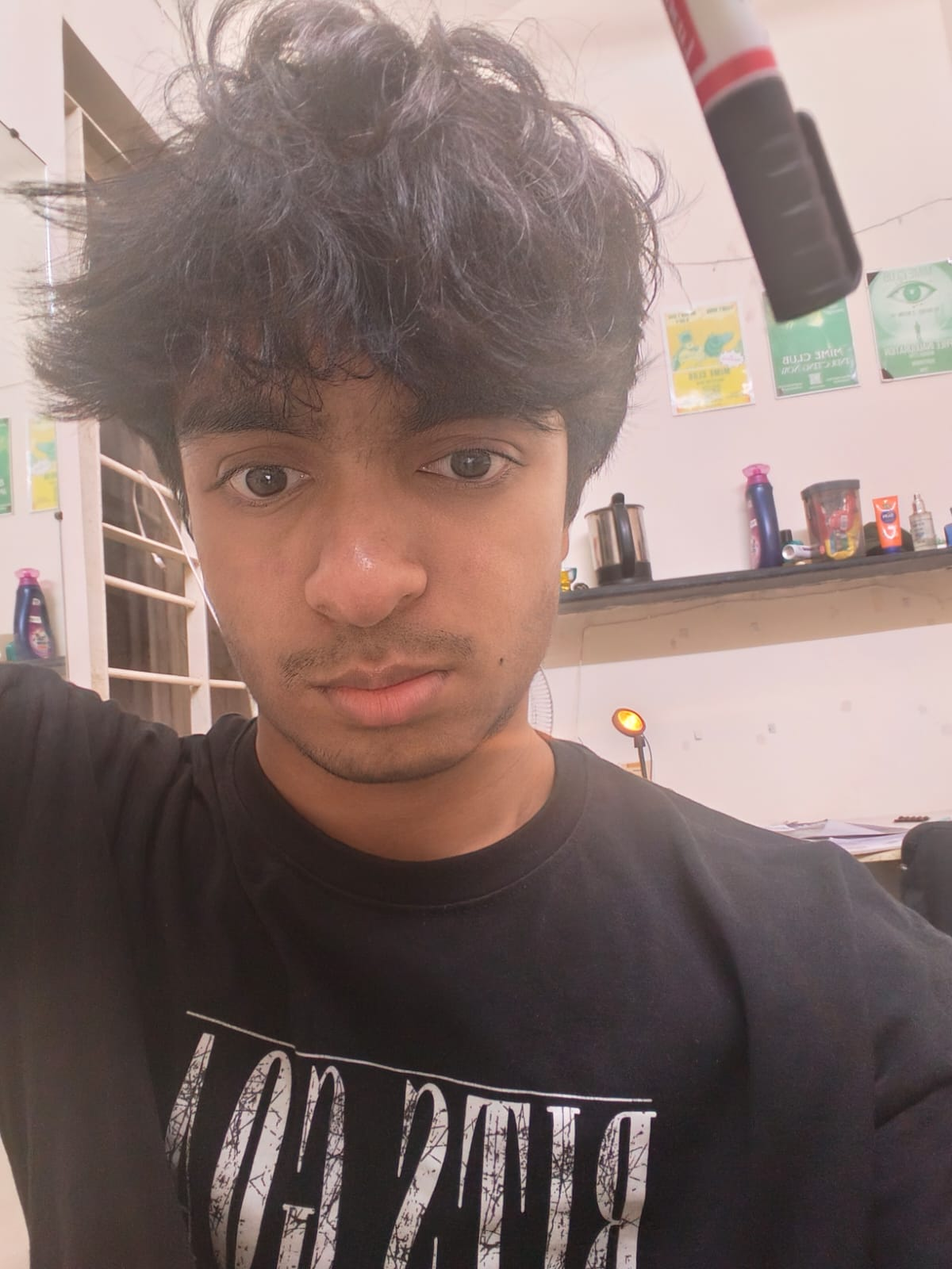case: (686, 51, 890, 326)
